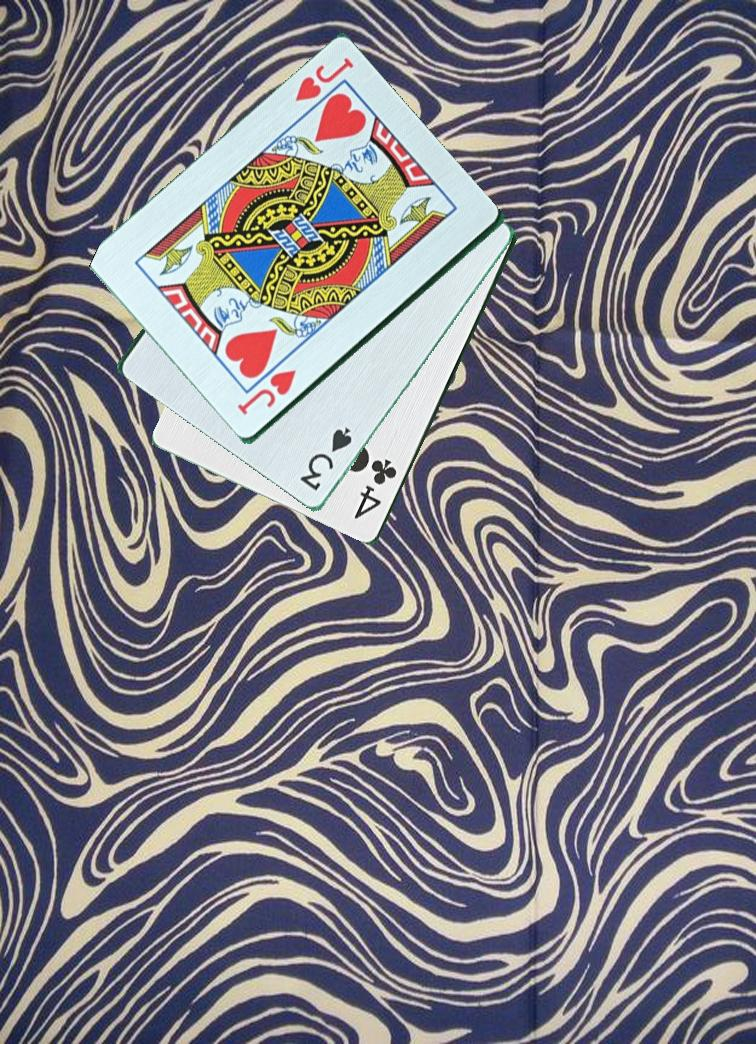3s: (297, 424, 356, 495)
4c: (351, 453, 400, 523)
jh: (291, 54, 357, 106), (235, 366, 299, 419)
